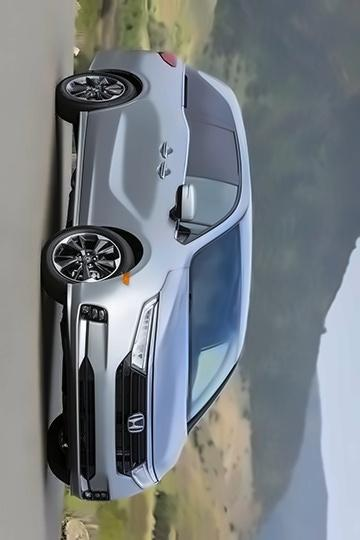Car hood: (144, 262, 197, 485)
Driver-s door - -F-R-: (85, 165, 247, 254)
Fender - -F-R-: (63, 220, 196, 297)
Fender - -R-R-: (85, 64, 199, 113)
Front bumper: (53, 278, 134, 504)
Headlight - -L-: (121, 448, 160, 493)
Headlight - -R-: (123, 290, 170, 376)
Passenger-s door - -R-R-: (87, 112, 250, 177)
Rear bumper: (81, 47, 153, 81)
Rear light - -R-: (141, 44, 189, 70)
Side bumper - -R-: (61, 104, 91, 234)
Side mirror - -R-: (160, 174, 206, 228)
